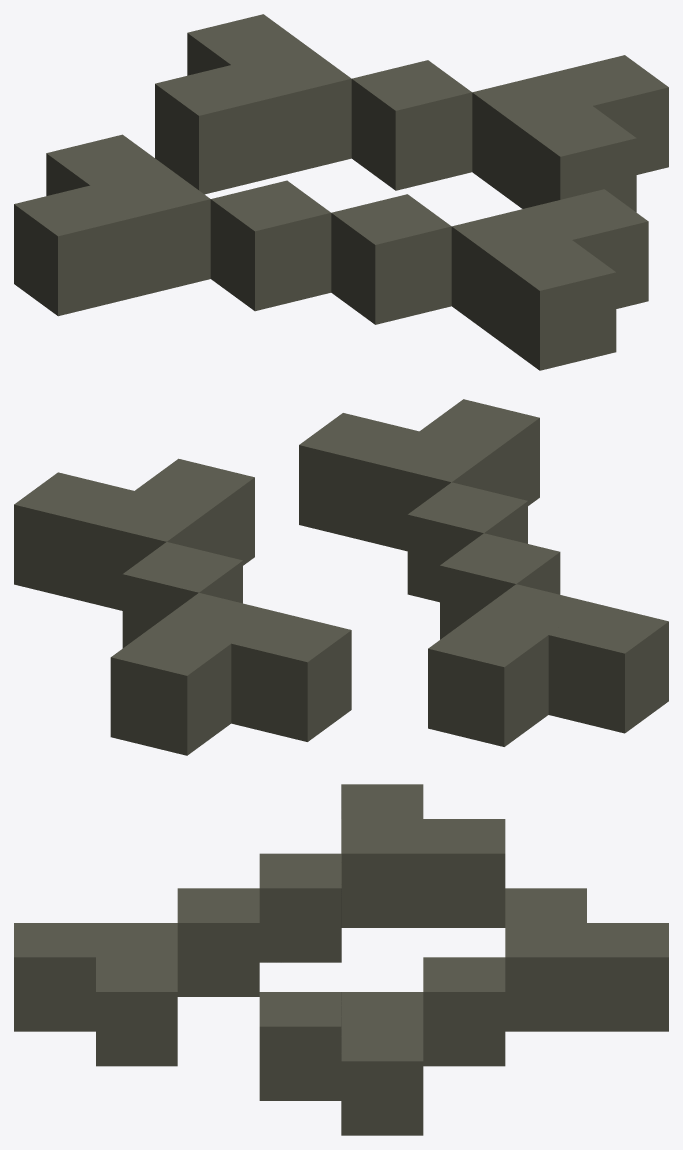
Rendered from TwoBones.fbx.
3 renders of one model, top to bottom at view 1: azimuth 30°, elevation 25°; view 2: azimuth 150°, elevation 25°; view 3: azimuth 270°, elevation 25°, orthographic. The views are drawn at different scales.
Visible parts, largest first — view 1: Bones; view 2: Bones; view 3: Bones.
Part boxes in pixels (x1,y1,x2,y2): Bones: (14,14,668,370); Bones: (14,399,668,755); Bones: (14,784,668,1135).
Bounding box in the file's own units: 100 × 12.5 × 100.
